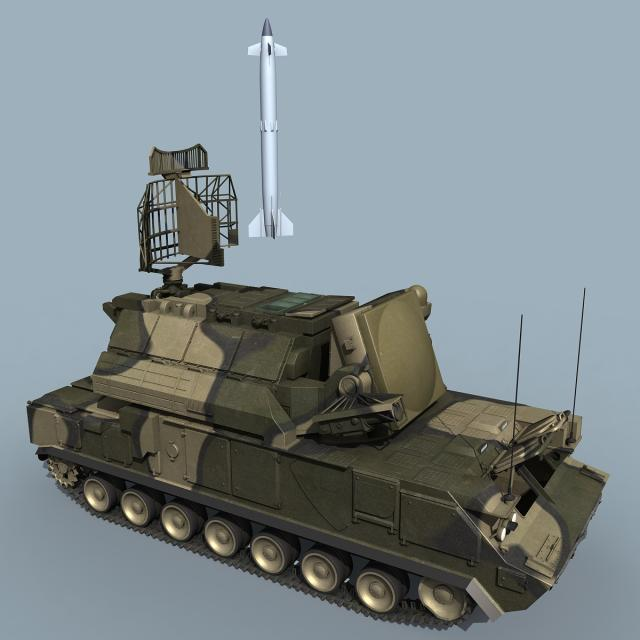MIL_EW_RDR: (30, 147, 606, 632)
